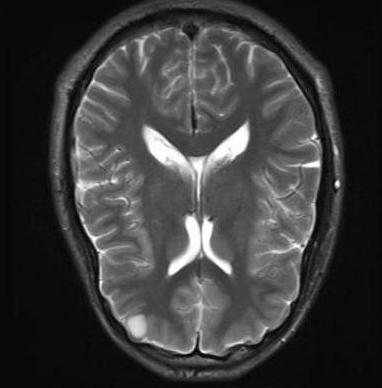Normal_Brain: (1, 1, 382, 388)
